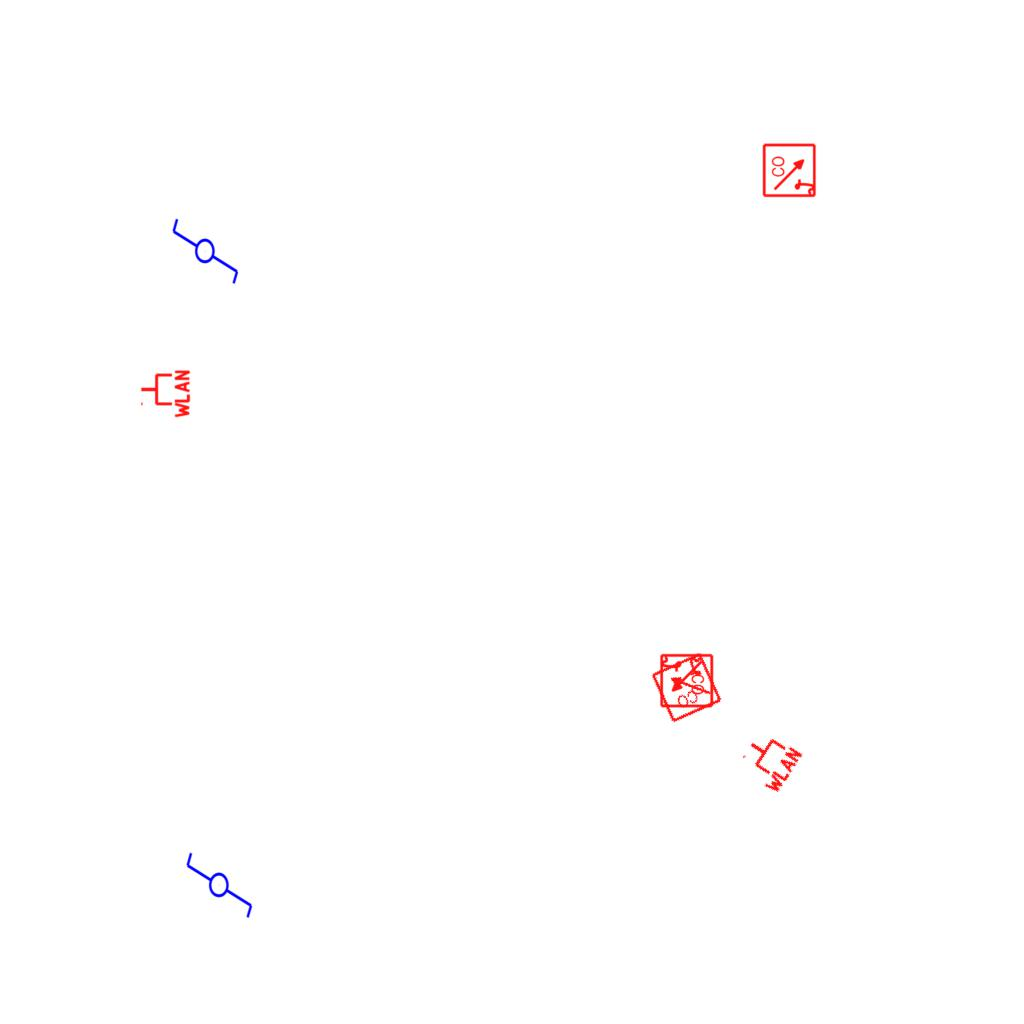ROA_Rauchmelder_optisch_mit_Signalgeber_(Sockelsirene): (649, 650, 723, 724), (762, 142, 818, 198), (658, 653, 714, 709)
WLAN: (733, 725, 805, 797), (139, 368, 191, 420)
Wechselschalter: (184, 842, 256, 920), (170, 208, 242, 286)
